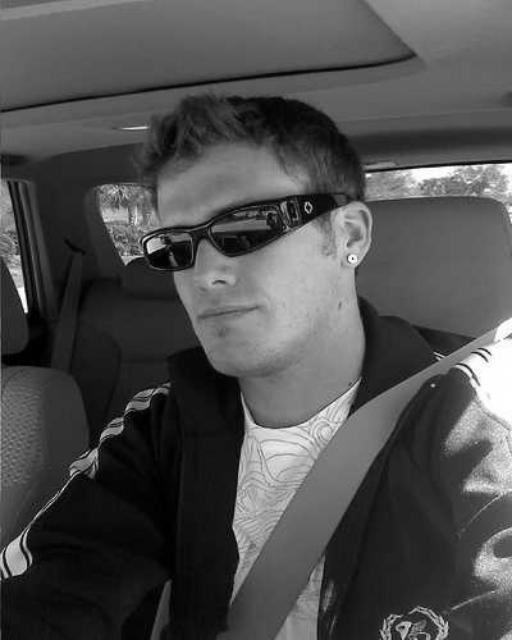SafeDriving: (368, 154, 507, 205)
Seatbelt: (220, 310, 512, 640)
